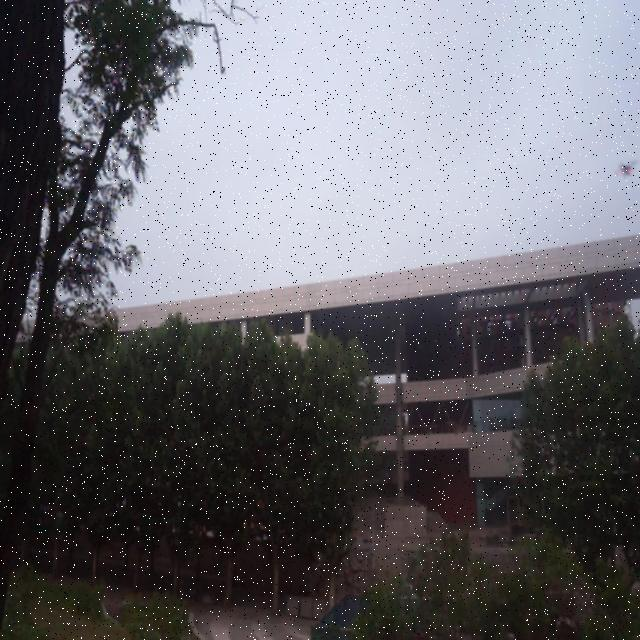UAV: (615, 160, 638, 178)
